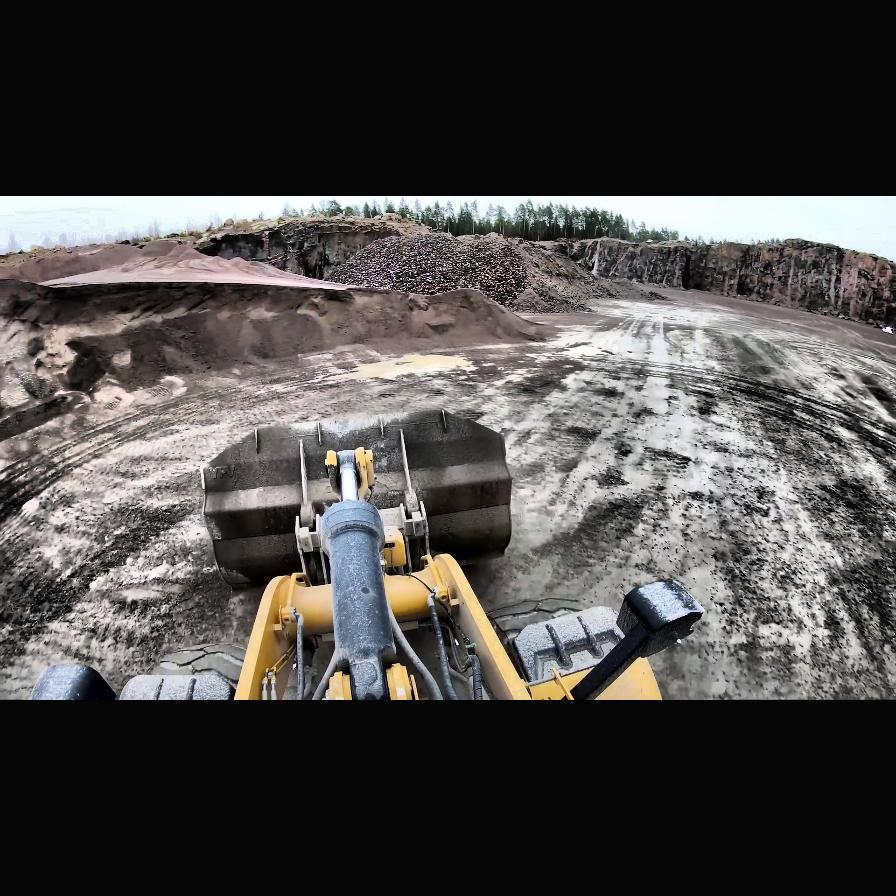anchor: (326, 446, 376, 505)
pile of gravel: (2, 274, 550, 432), (323, 231, 597, 313), (2, 239, 348, 285)
